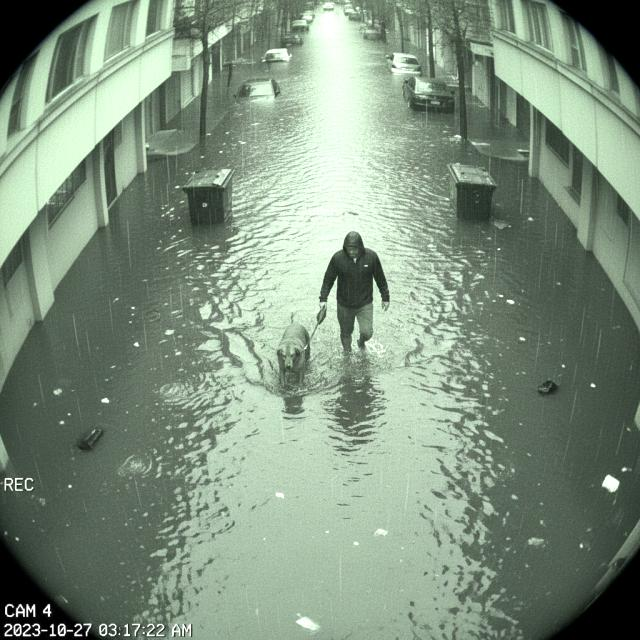civilian: (314, 222, 398, 362)
dog: (262, 304, 322, 396)
